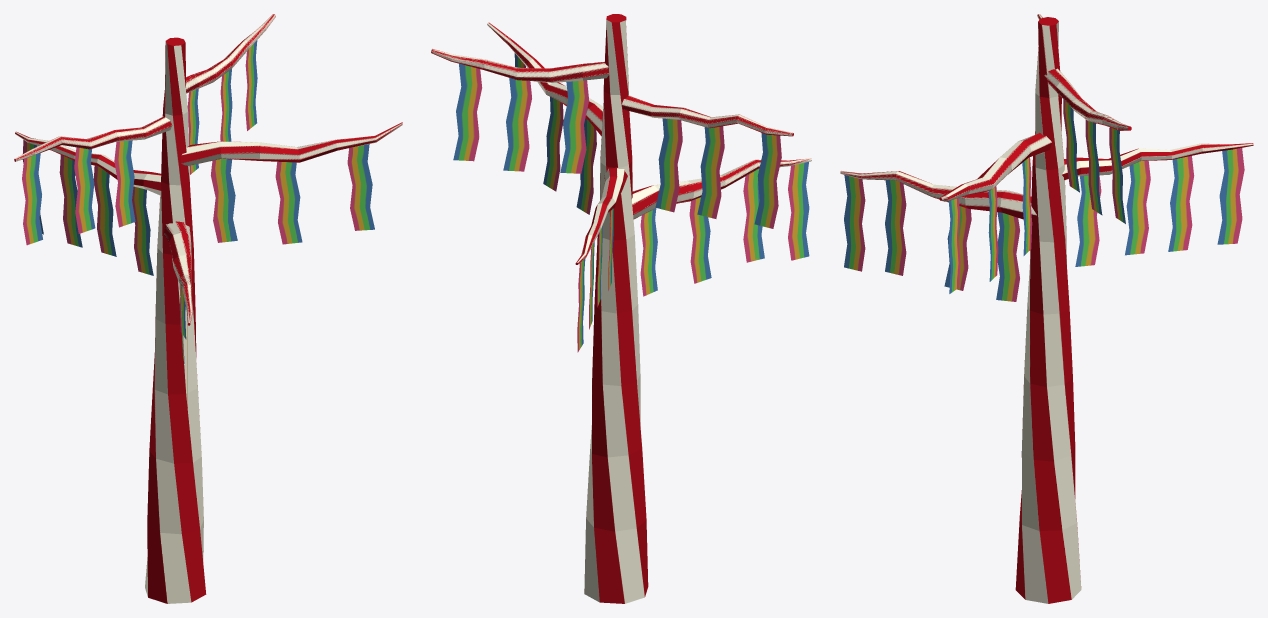
Rendered from brush_candy1.fbx.
3 renders of one model, left to right at view 1: azimuth 30°, elevation 25°; view 2: azimuth 150°, elevation 25°; view 3: azimuth 270°, elevation 25°, orthographic. The views are drawn at different scales.
Parts seen in each view (by area): view 1: brush_candy1; view 2: brush_candy1; view 3: brush_candy1.
Boxes of the visible parts, x1,y1,x2,y2 form: brush_candy1: (14, 14, 402, 603); brush_candy1: (431, 14, 811, 603); brush_candy1: (840, 14, 1253, 603).
Bounding box in the file's own units: 285 × 439 × 290.
